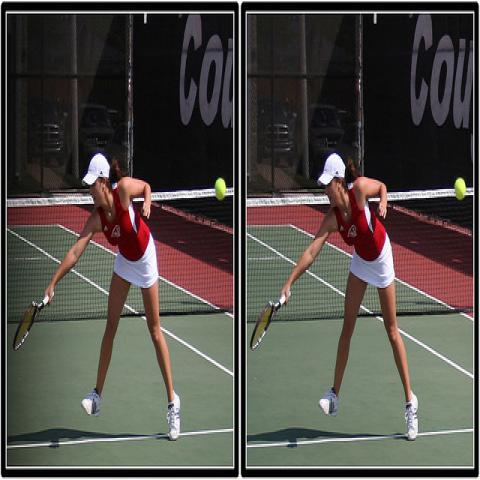car: (293, 106, 346, 182), (258, 96, 294, 167), (28, 99, 65, 166), (334, 125, 358, 167)
